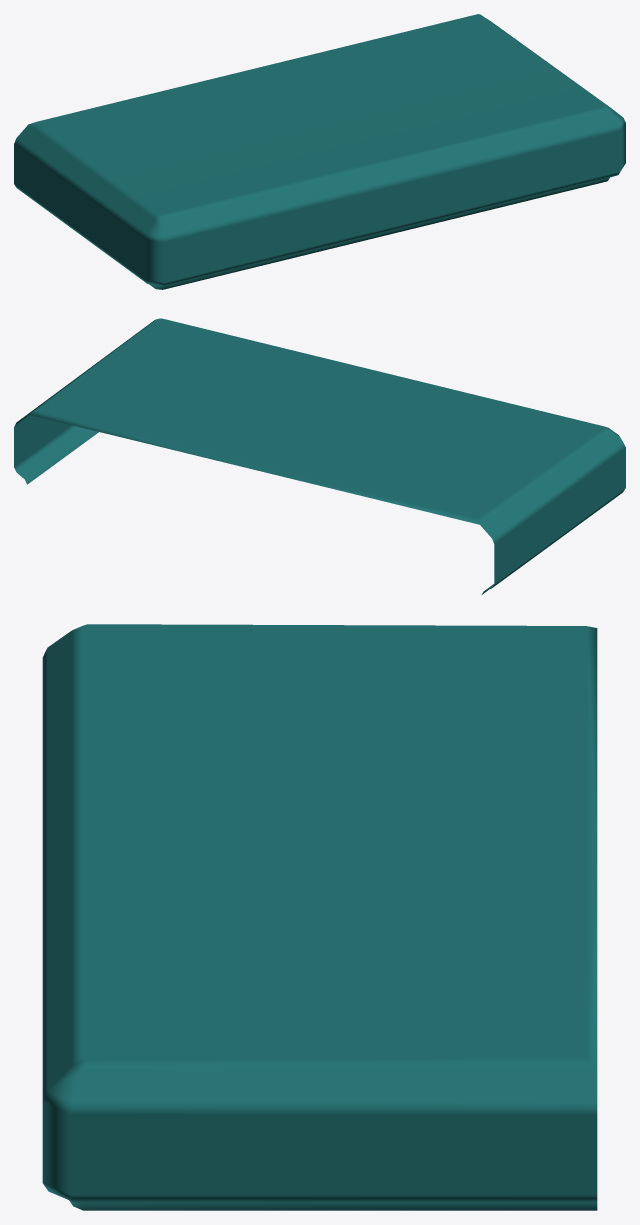
The model's file is SM_Building_Top_02.fbx.
3 renders of one model, top to bottom at view 1: azimuth 30°, elevation 25°; view 2: azimuth 150°, elevation 25°; view 3: azimuth 270°, elevation 25°, orthographic. The views are drawn at different scales.
Visible parts, largest first — view 1: Box046; view 2: Box046; view 3: Box046.
Part boxes in pixels (x1,y1,x2,y2): Box046: [14, 14, 625, 289]; Box046: [14, 318, 625, 594]; Box046: [42, 624, 597, 1210].
Size of the model in its own units: 635 by 93.11 by 318.
